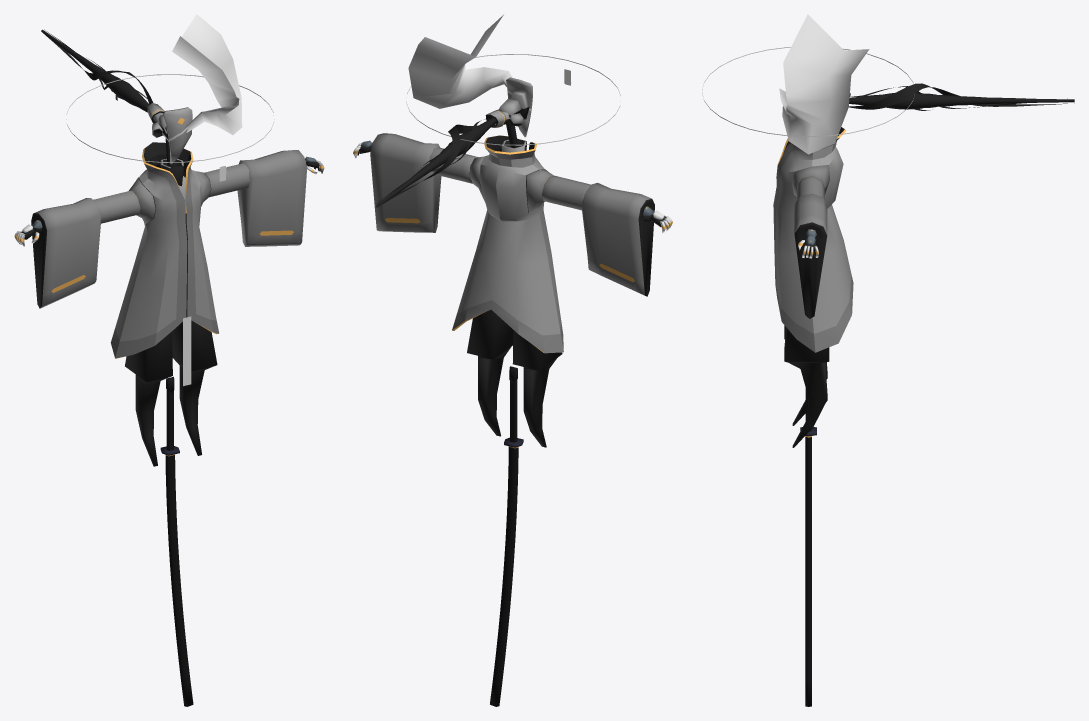
The model's file is GEKKOU_lowpoly_Smooth.fbx.
3 views of the same model, side by side, from view 1: azimuth 30°, elevation 25°; view 2: azimuth 150°, elevation 25°; view 3: azimuth 270°, elevation 25° (orthographic). The views are drawn at different scales.
Visible parts, largest first — view 1: Circle, Circle.007, Circle.004, legs, BezierCurve.001, Cube.032, BezierCurve, Cube.002, Circle.006, Circle.002, Cube.031, Info_circle (+2 smaller); view 2: Circle, Circle.007, Circle.004, legs, BezierCurve.001, Cube.032, BezierCurve, Circle.006, Circle.002, Cube.031, Circle.005, Info_circle (+1 smaller); view 3: Circle, BezierCurve.001, BezierCurve, Circle.004, legs, Cube.032.
Boxes of the visible parts, x1,y1,x2,y2 form: Circle: (110,142,218,358); Circle.007: (31,198,101,308); Circle.004: (237,150,307,246); legs: (125,320,217,466); BezierCurve.001: (172,14,242,139); Cube.032: (165,454,193,706); BezierCurve: (41,29,153,112); Cube.002: (163,107,192,163); Circle.006: (93,190,140,223); Circle.002: (205,163,250,197); Cube.031: (160,376,179,455); Info_circle: (66,74,274,181); Circle: (452,135,563,353); Circle.007: (581,182,654,296); Circle.004: (370,133,441,232); legs: (467,309,562,447); BezierCurve.001: (408,14,512,108); Cube.032: (490,446,518,706); BezierCurve: (375,117,496,207); Circle.006: (542,175,590,210); Circle.002: (429,147,478,183); Cube.031: (504,366,523,447); Circle.005: (526,169,553,213); Info_circle: (406,54,620,145); Circle: (773,127,853,352); BezierCurve.001: (779,14,869,154); BezierCurve: (849,83,1074,110); Circle.004: (794,193,827,318); legs: (784,325,829,447); Cube.032: (805,436,811,706).
Bounding box in the file's own units: 164 × 347 × 171.
